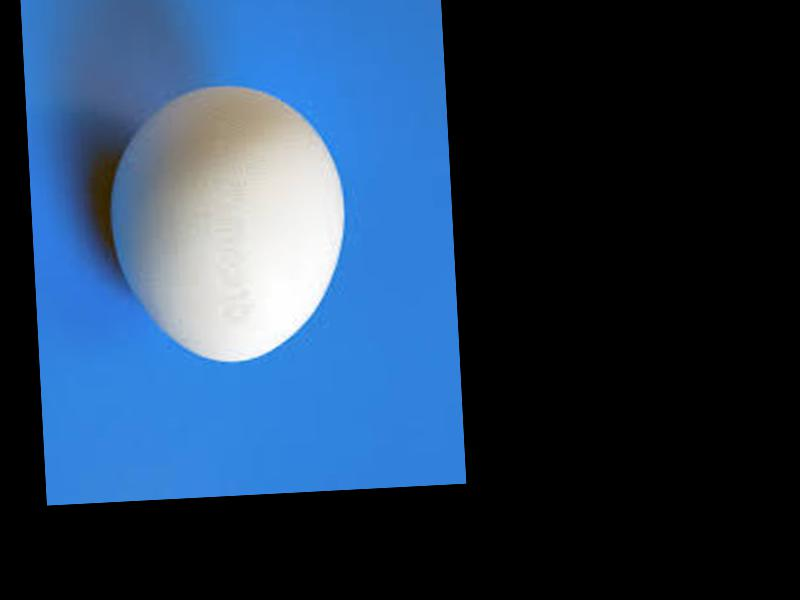Eggs: (102, 78, 351, 371)
